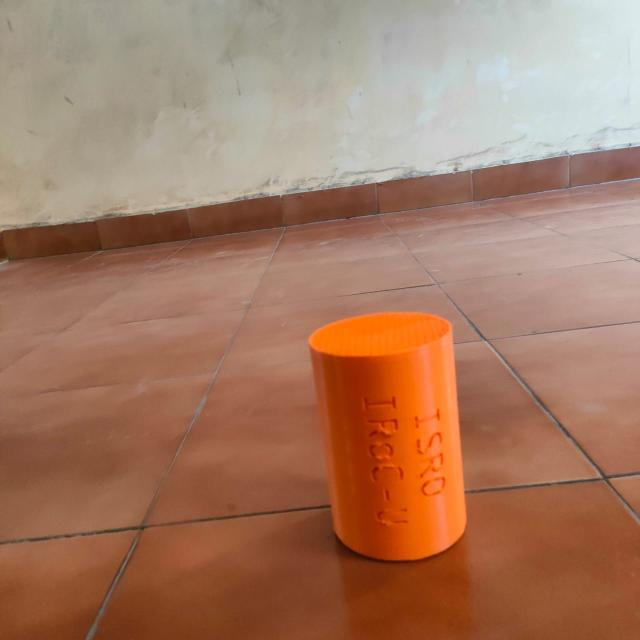Cylinder: (306, 310, 468, 562)
